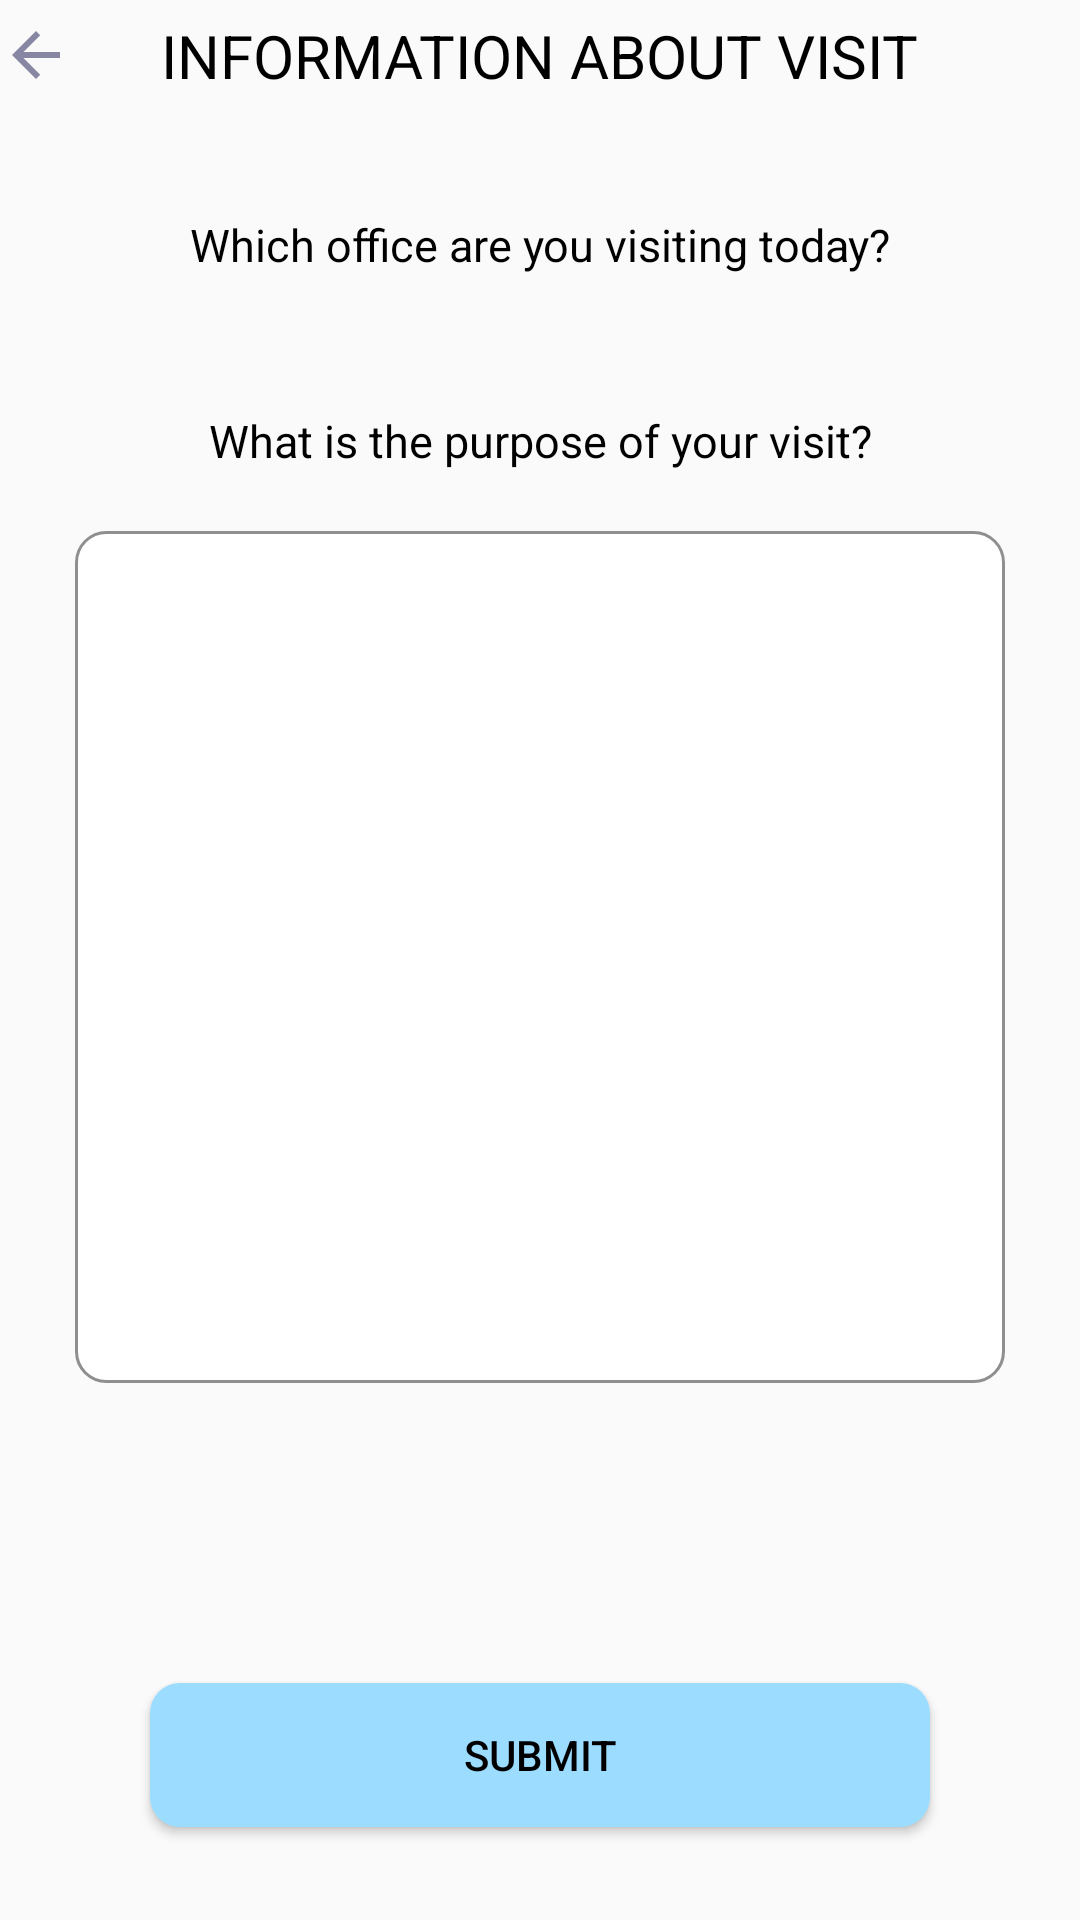

Point at icon controls on the screen. Image size 1080px x 1920px, points as point (x, y).
back: point (36, 55)
